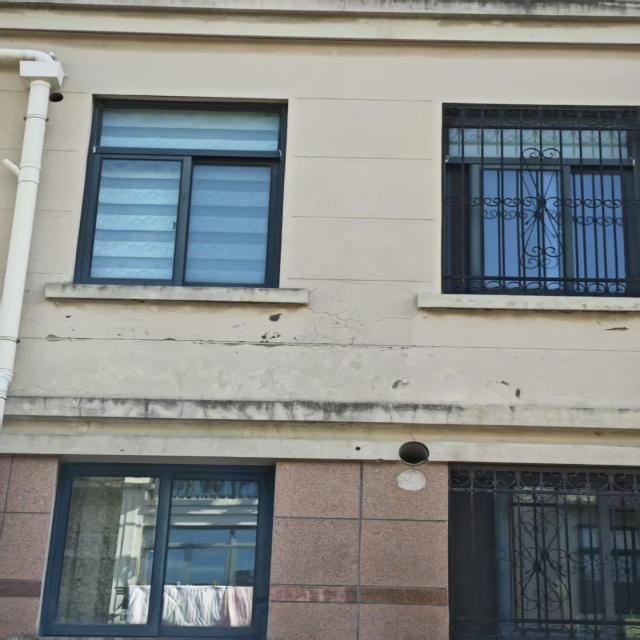crack: (282, 274, 426, 363)
mildew: (9, 397, 477, 421), (331, 1, 636, 18), (46, 284, 307, 303), (447, 297, 637, 311), (562, 404, 639, 422), (497, 405, 535, 419)
